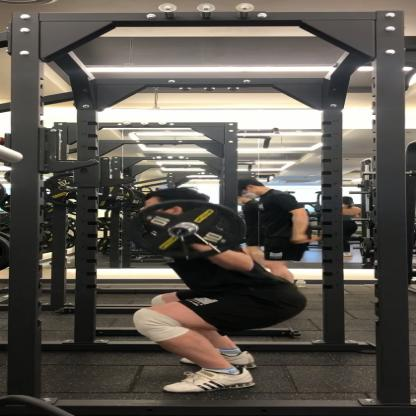Barbell: (115, 198, 252, 266)
